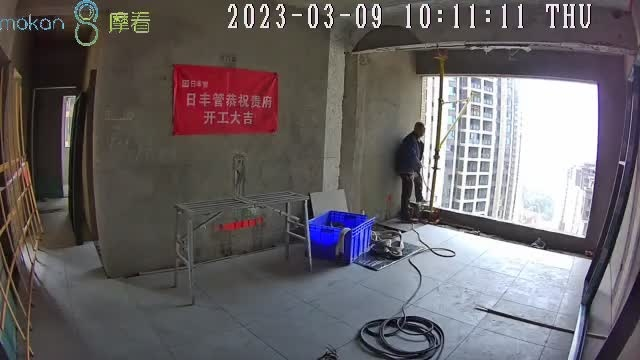people: (398, 123, 427, 227)
window: (418, 74, 598, 237)
